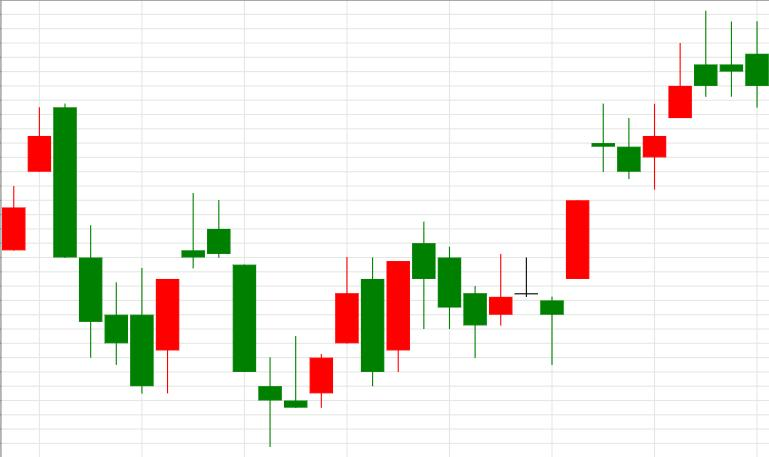shooting_star_fall: (131, 194, 231, 393), (617, 11, 718, 189)
